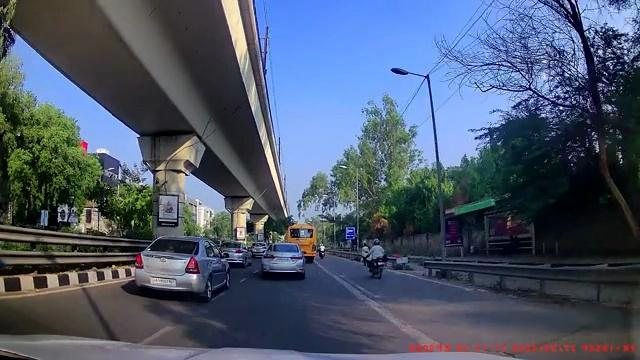motorcycle_with_helmet: (360, 238, 389, 279)
